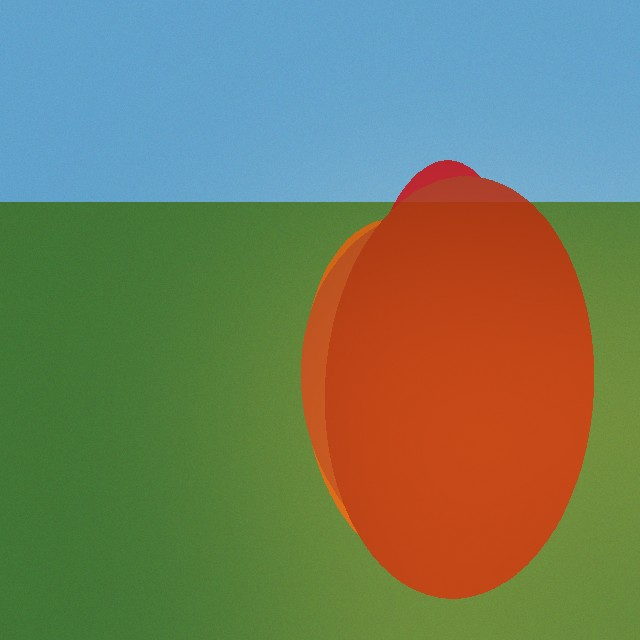fire: (295, 307, 589, 535)
